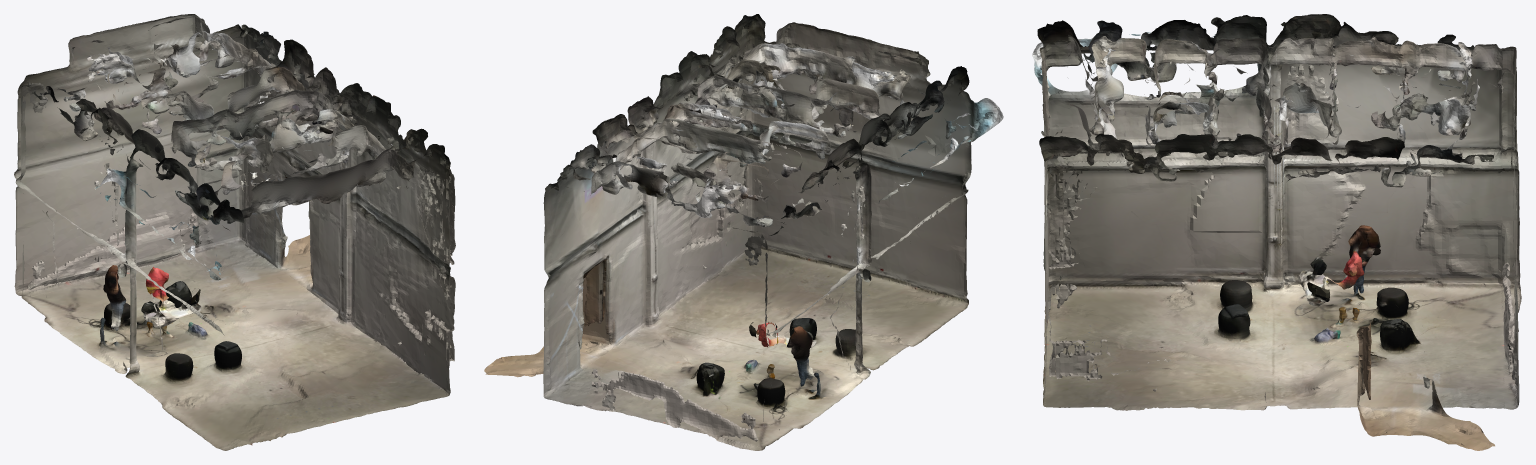
3 views of the same model, side by side, from view 1: azimuth 30°, elevation 25°; view 2: azimuth 150°, elevation 25°; view 3: azimuth 270°, elevation 25° (orthographic). The views are drawn at different scales.
Bounding box in the file's own units: 8.27 × 5.8 × 9.11.
1 material, 1 textured.
